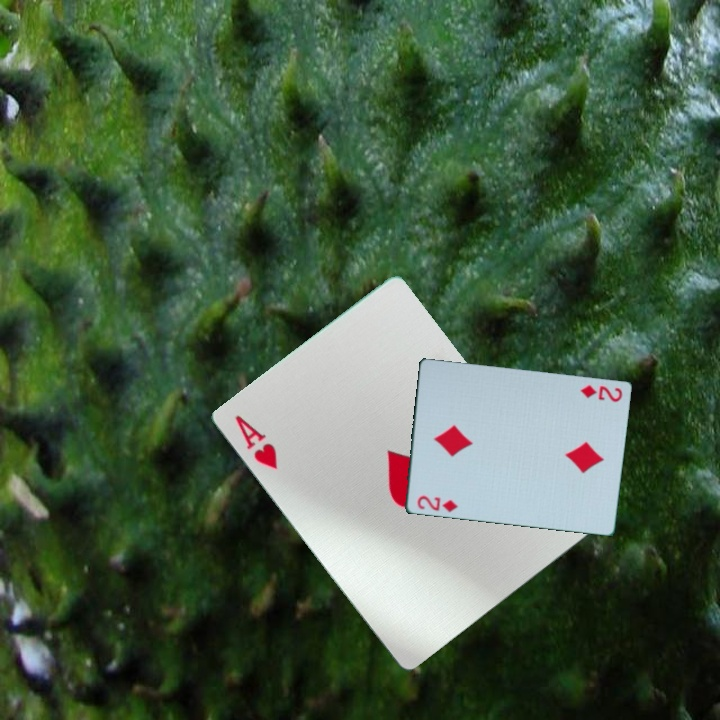2d: (577, 379, 625, 405), (413, 492, 460, 515)
Ah: (232, 411, 282, 472)
